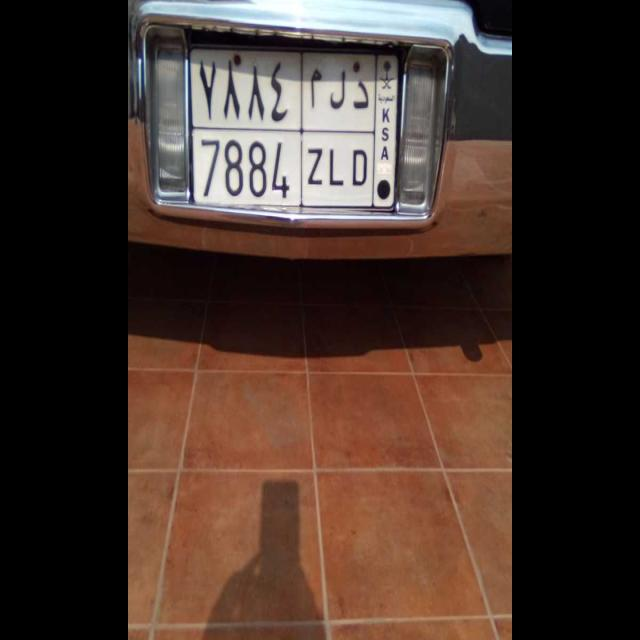license_plate: (189, 126, 374, 210)
